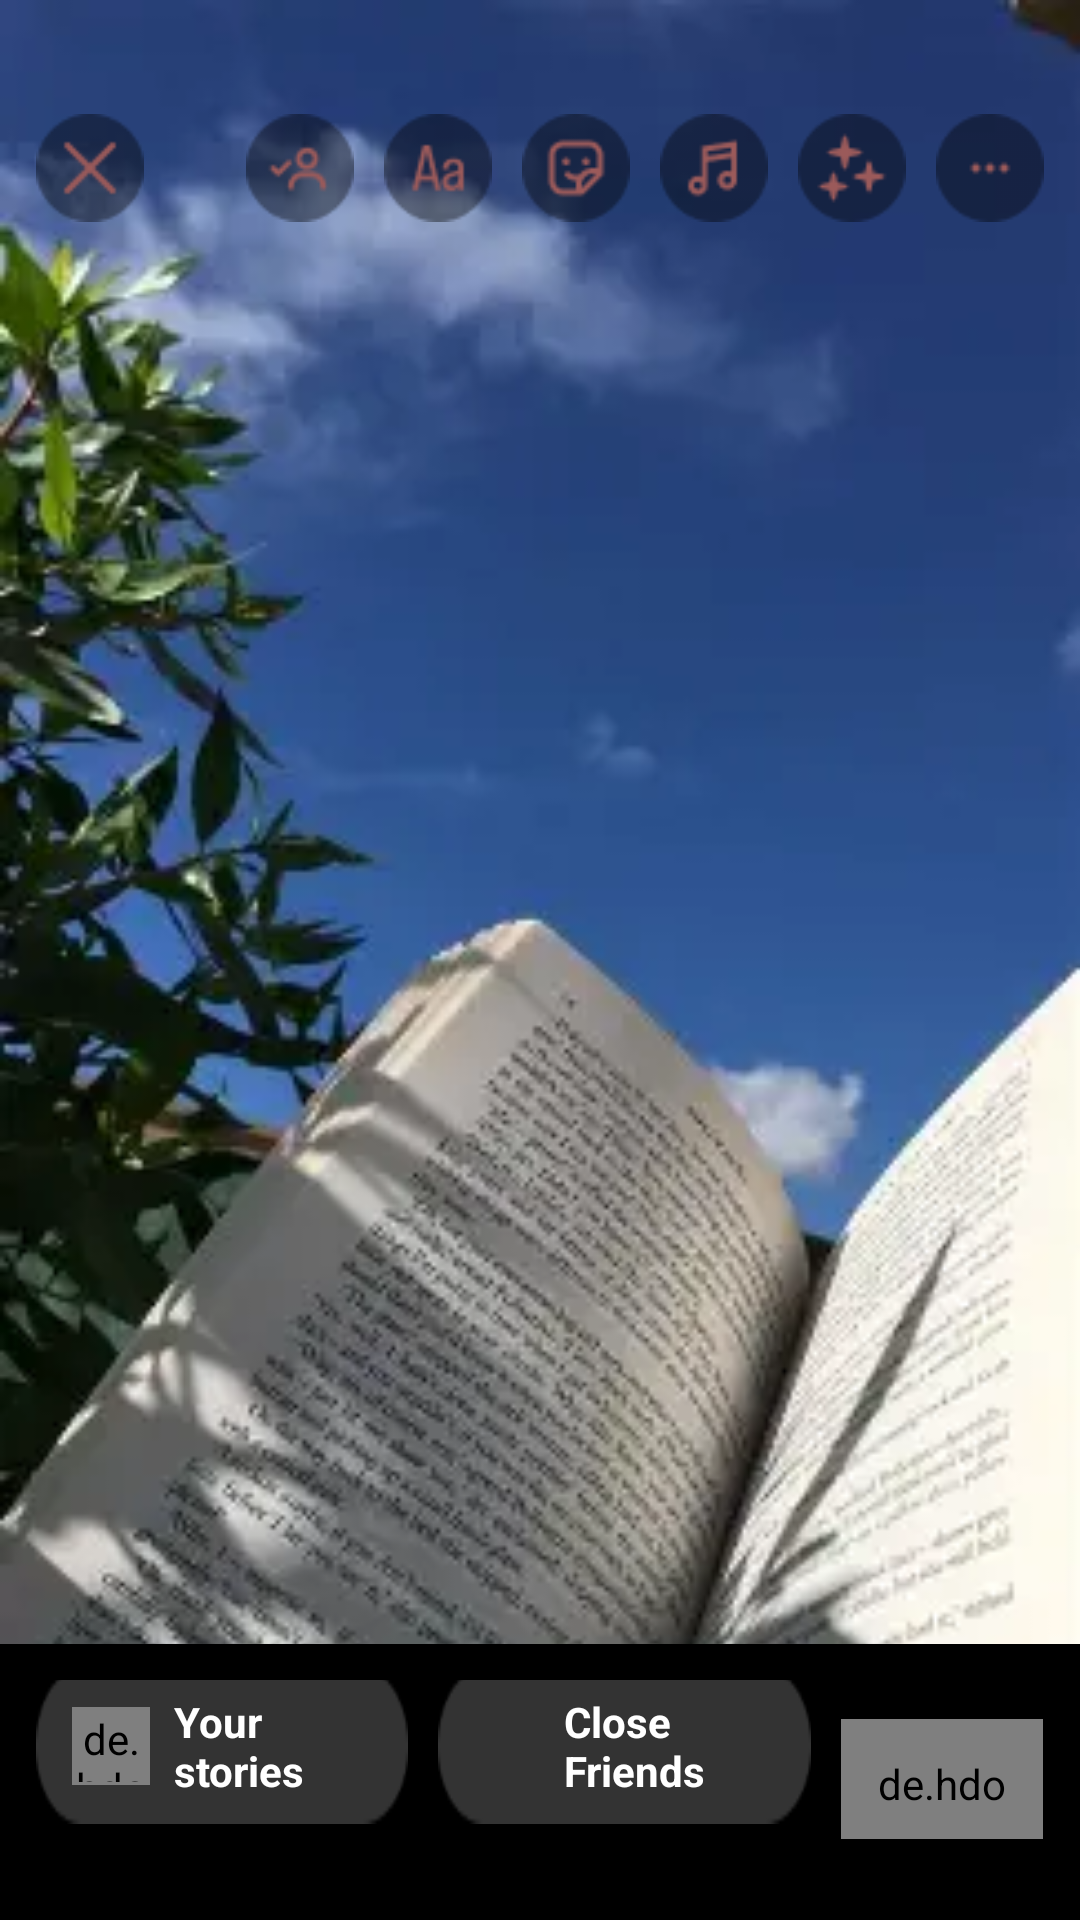

Screen size 1080w x 1920h. Icon name, then its center in pixels as point (x, y):
caps brown: point (438, 168)
close brown: point (90, 168)
dot options brown: point (990, 168)
filters brown: point (852, 168)
music brown: point (714, 168)
sticker brown: point (576, 168)
tag brown: point (300, 168)
